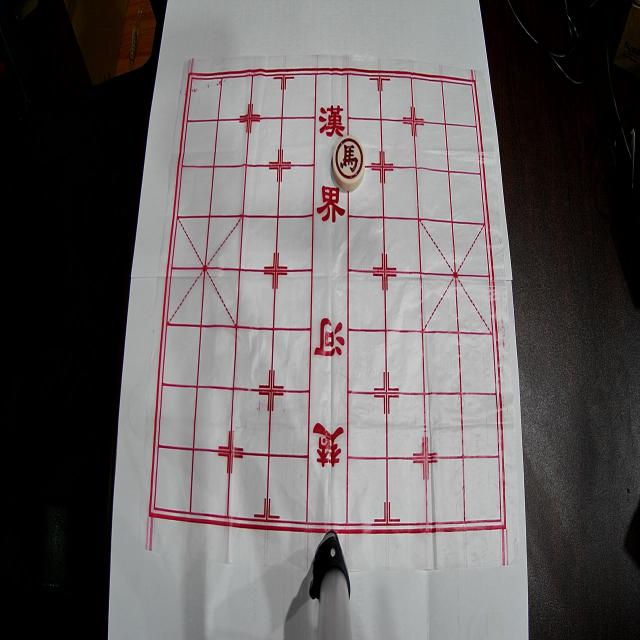red-horse: (333, 135, 365, 190)
